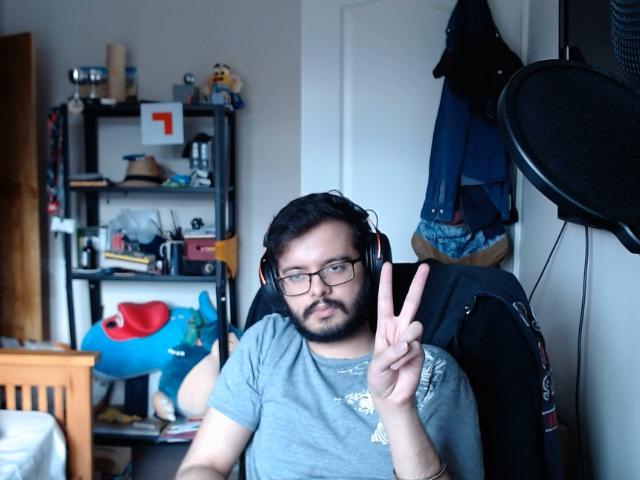Peace: (362, 257, 440, 414)
